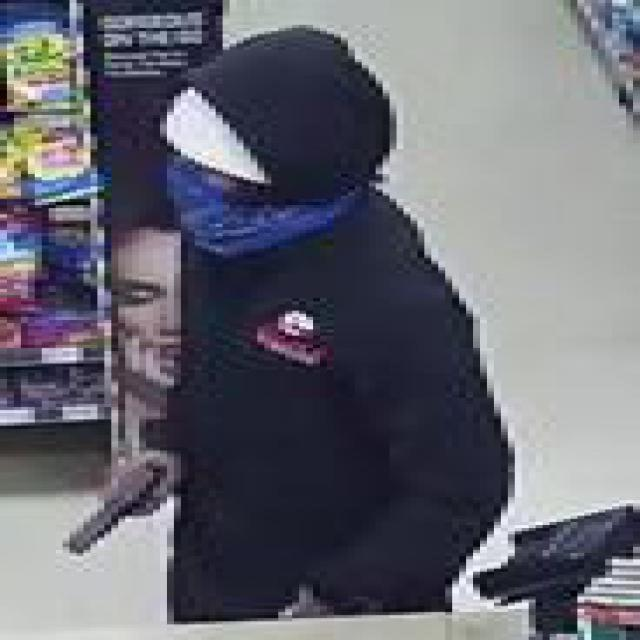weapon: (65, 459, 166, 561)
